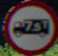Heavy Vehicles: (4, 5, 53, 45)
